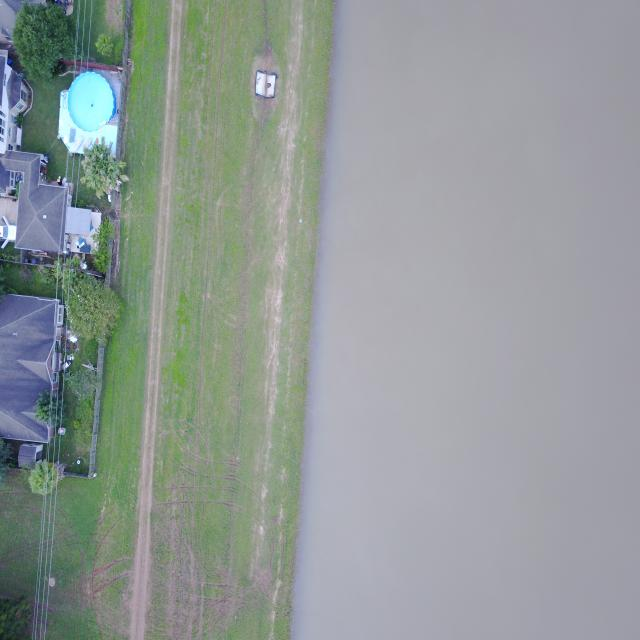fire: (293, 1, 640, 639)
